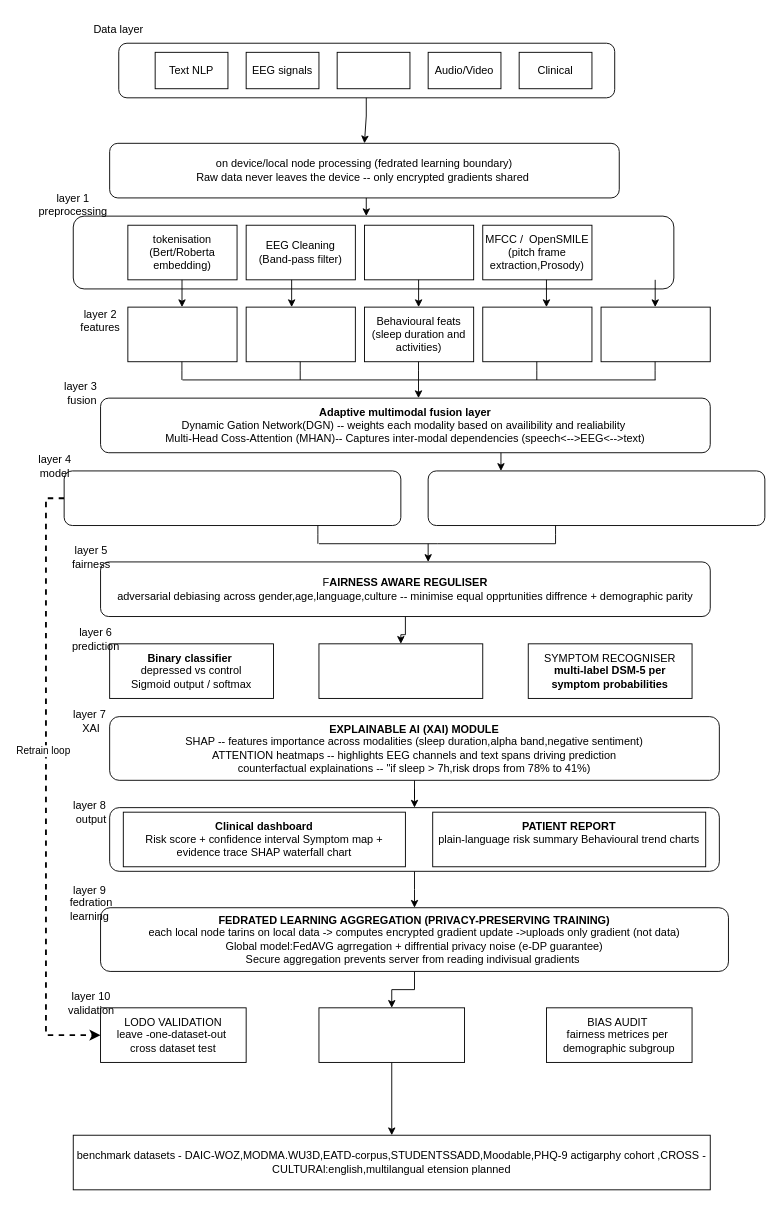
Image size: 781x1206. Some labels were removed from this diagram. The shapes that lost their labels are listed below. From the top down, each one's centre as x and y in pixels, then its label:
At (x=373, y=70): "Wearables".
At (x=419, y=252): "Normalisation (imputation for missing readings)".
At (x=182, y=334): "sementic feats (sentiments,topics DSM-5 symptoms)".
At (x=300, y=334): "Spectral feats (Alpha power , PSD frontal/pariental)".
At (x=537, y=334): "Paralinguitic (Vocal energy,rPPG facial HRV)".
At (x=655, y=334): "Clincal feats PHQ score,age demographic vars".
At (x=232, y=498): "tarnsformer encoder Stacked self-attention + FFN Text : BERT/RoBERta backbone".
At (x=596, y=498): "CNN + BiLSTM encoder 1D-CNN for EEG / wearables Temporal sequences via BiLSTM".
At (x=400, y=670): "Severity regression PHQ_9 score estimation Ordinal / MSE LOSS".
At (x=391, y=1034): "METRIC suite F1,AUC-ROC,sensitivity specificity,MCC".
